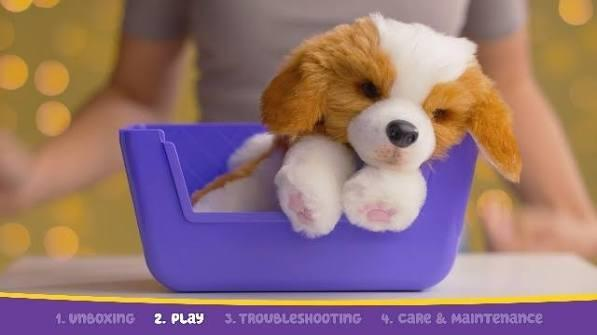non-dog: (186, 11, 526, 239)
